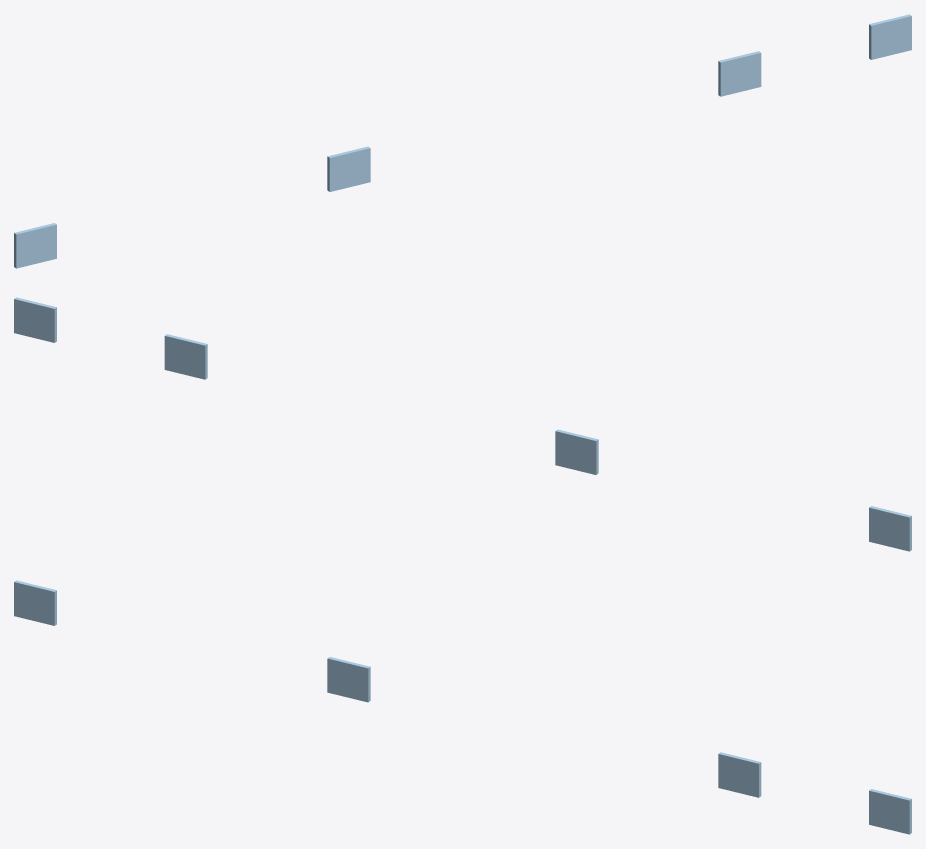
File: harbour_windows.glb
3 views of the same model, one above another, from view 1: azimuth 30°, elevation 25°; view 2: azimuth 150°, elevation 25°; view 3: azimuth 330°, elevation 25° (orthographic).
Visible parts, largest first — view 1: harbour_windows; view 2: harbour_windows; view 3: harbour_windows.
Part boxes in pixels (box(x1,y1,x2,y2)): harbour_windows: box(14, 14, 911, 268); harbour_windows: box(14, 297, 911, 551); harbour_windows: box(14, 580, 911, 834).
Size of the model in its own units: 22 by 0.8 by 0.1.
